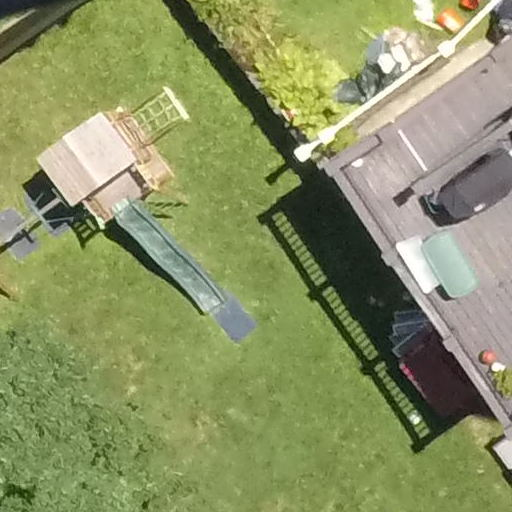bucket: (433, 8, 467, 32)
container: (418, 230, 483, 299), (394, 232, 439, 292)
